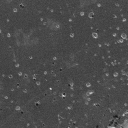corrosion: (91, 31, 99, 40), (87, 11, 95, 19), (112, 70, 119, 78), (33, 100, 41, 107), (68, 31, 75, 38), (5, 31, 12, 38), (12, 6, 19, 13), (111, 59, 118, 66), (69, 81, 74, 90), (15, 104, 21, 111), (66, 104, 73, 110), (84, 98, 90, 105), (120, 32, 128, 37), (86, 91, 94, 96), (85, 81, 91, 87), (14, 62, 20, 68), (61, 91, 67, 97), (35, 80, 41, 86), (54, 23, 60, 29), (79, 10, 85, 16), (28, 54, 34, 60), (97, 43, 103, 49), (52, 56, 57, 62), (43, 70, 48, 76), (113, 14, 118, 20), (121, 18, 127, 23), (32, 73, 37, 79), (116, 40, 123, 44), (4, 95, 9, 100), (68, 18, 73, 23), (8, 74, 13, 79), (105, 42, 110, 47), (105, 71, 109, 77), (112, 32, 116, 37), (49, 86, 53, 91), (92, 102, 96, 107), (18, 72, 22, 76), (97, 3, 101, 7), (50, 8, 53, 13)
